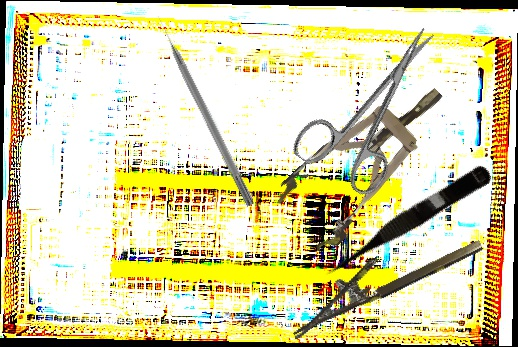Iris Scissors: (287, 4, 471, 207)
Micro Scissor: (317, 158, 495, 283)
Needle Holder: (278, 214, 485, 340)
Pusher: (153, 12, 258, 208)
Speculum: (267, 62, 469, 258)
